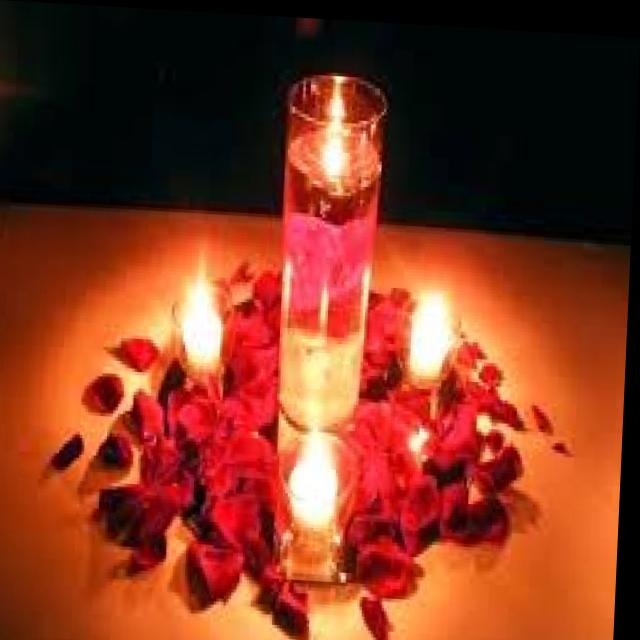fire: (172, 259, 233, 371), (401, 273, 458, 359), (290, 417, 349, 492), (306, 90, 353, 165)
